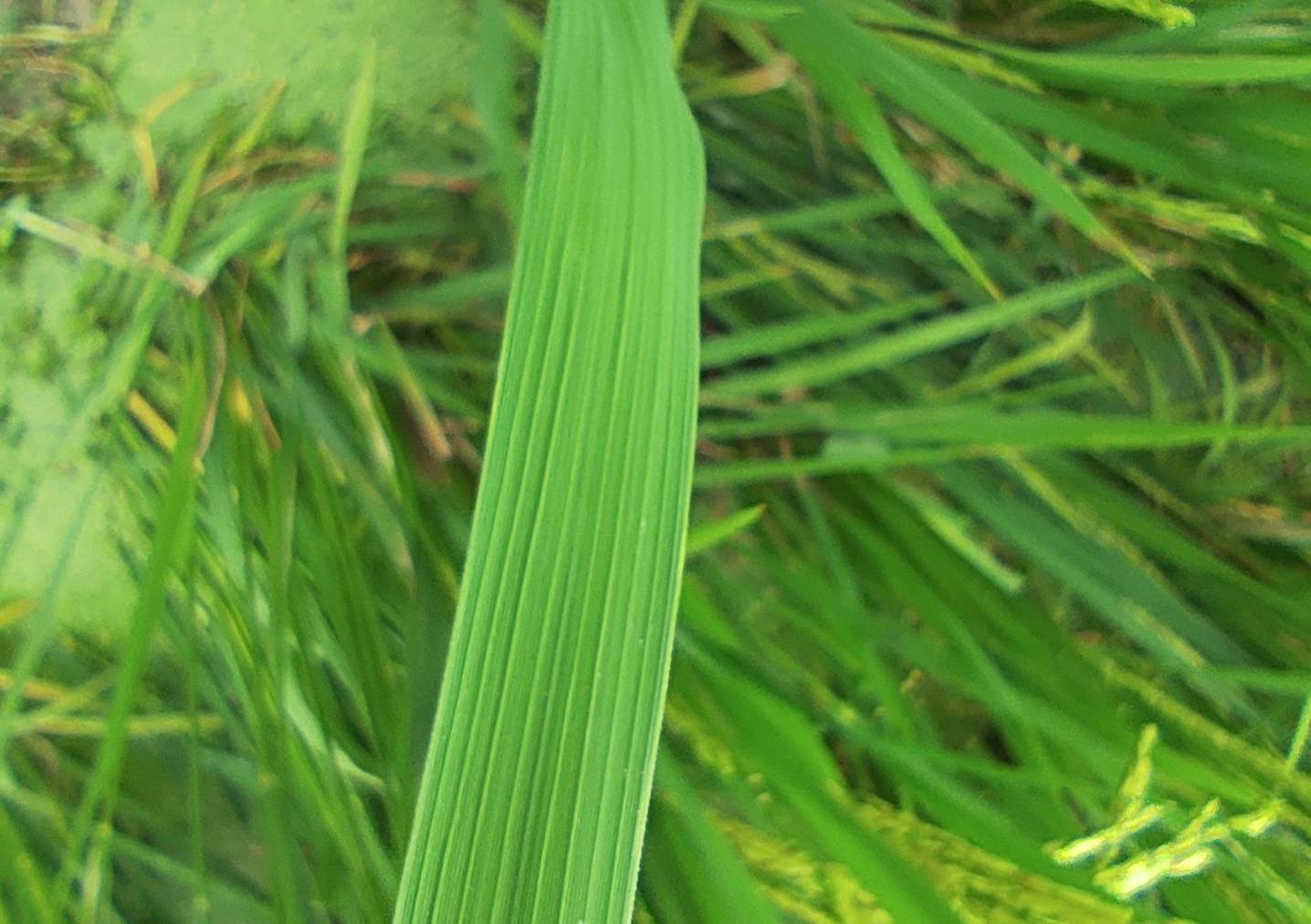Healthy: (394, 0, 705, 923)
